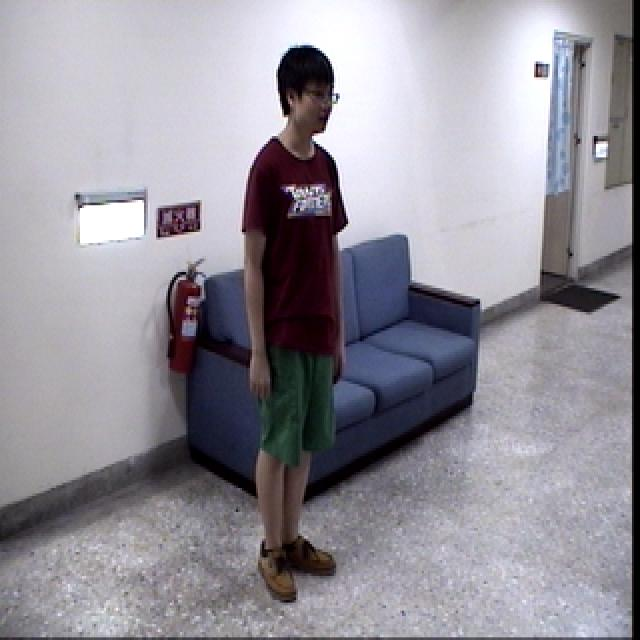stand: (236, 37, 353, 608)
